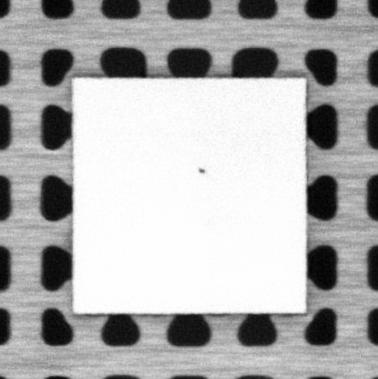DIE_INK: (196, 166, 208, 175)
